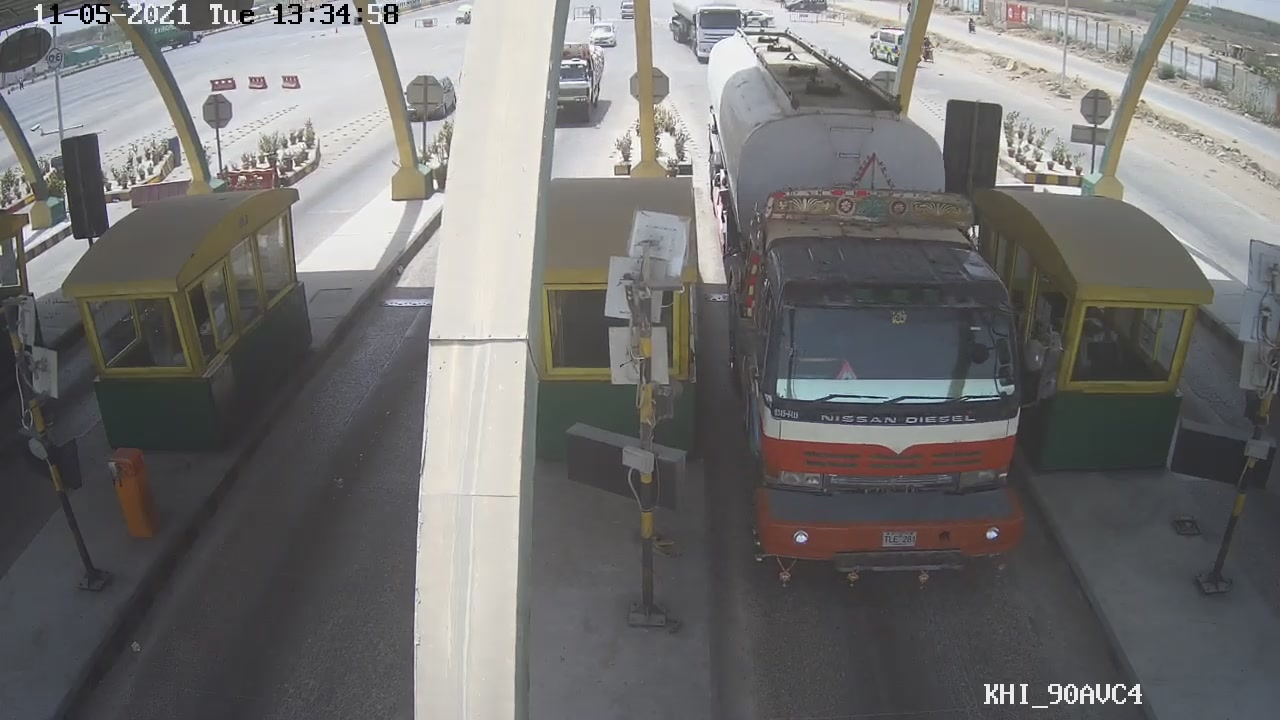F6: (701, 42, 1026, 594)
